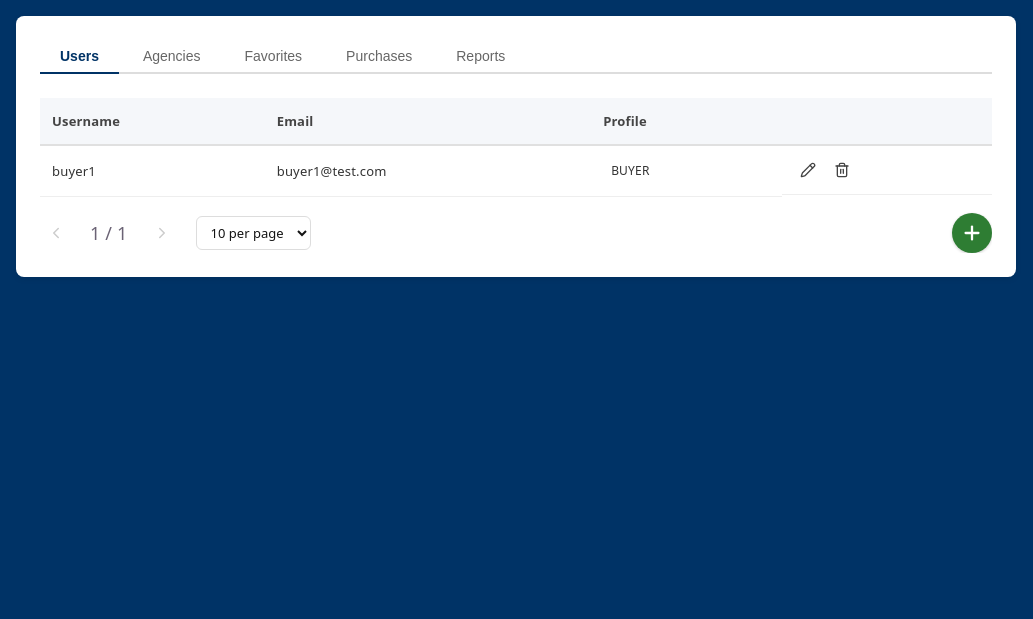
Test: AdminPage › opens the new user form and creates a user
This screenshot has width=1033, height=619.
Click the button with test id "btn-new-user" at [972, 233], box [952,213,992,253]
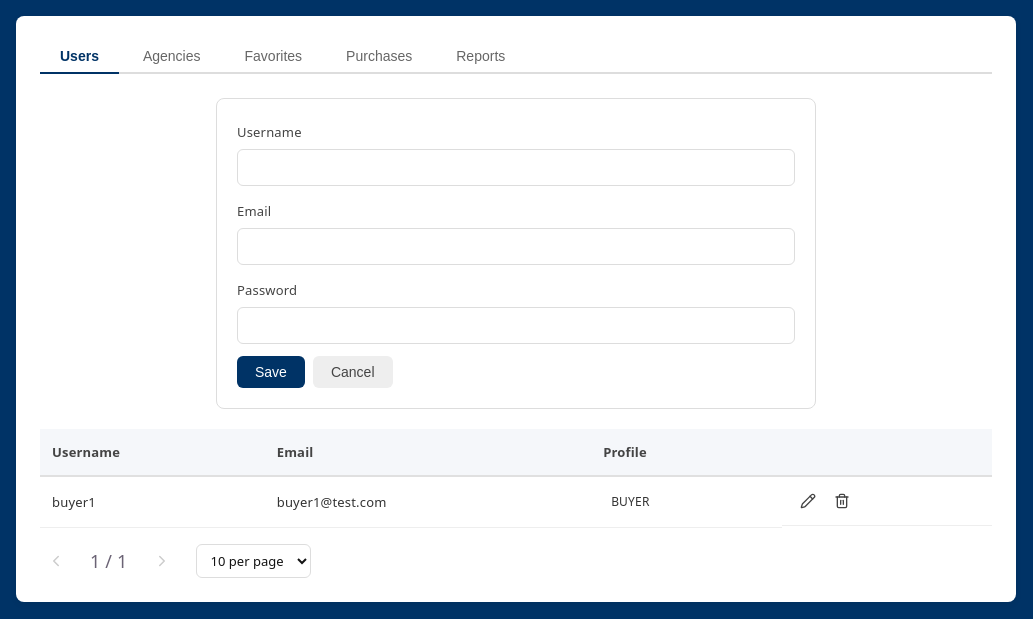
Now the form with test id "user-form" is shown, box [216,98,816,409]
Type "nuevo" into the field with test id "input-username" at [516, 168], box [237,149,795,186]
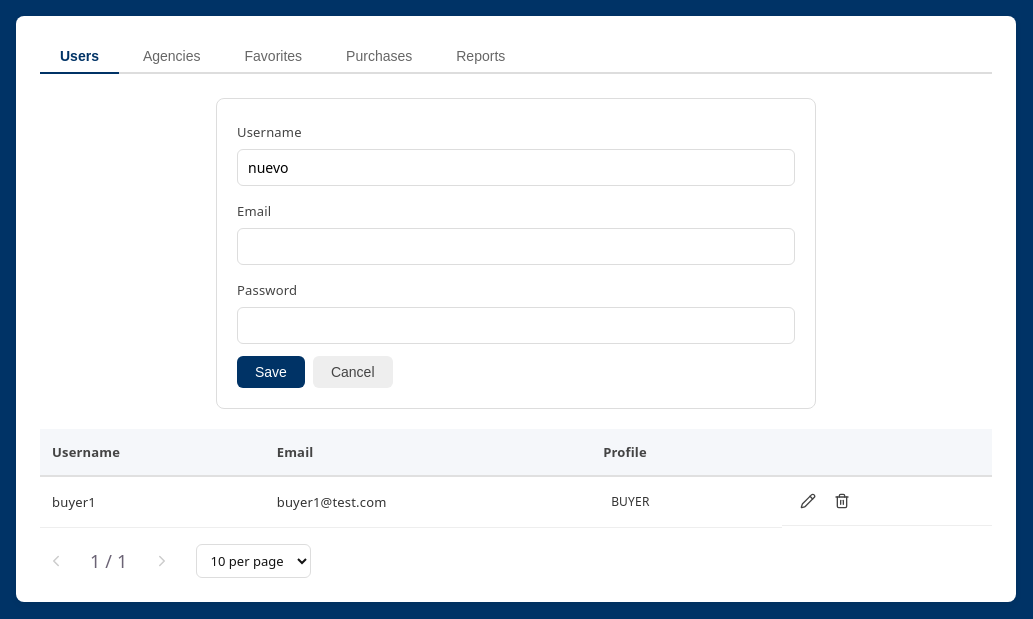
Type "nuevo@cth.com" into the field with test id "input-email" at [516, 247], box [237,228,795,265]
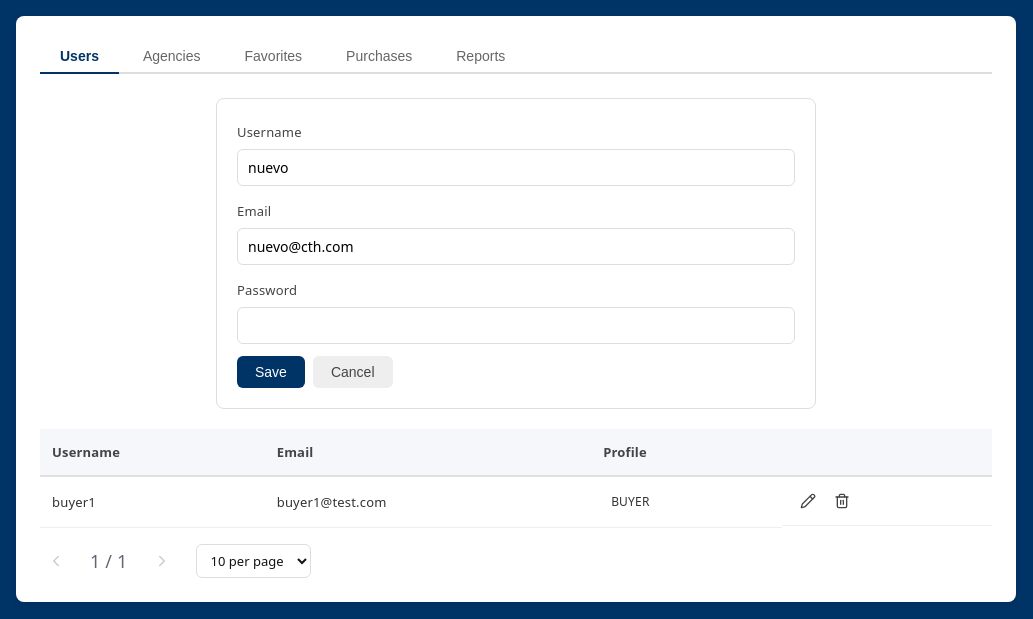
Type "secret123" into the password field with test id "input-password" at [516, 326], box [237,307,795,344]
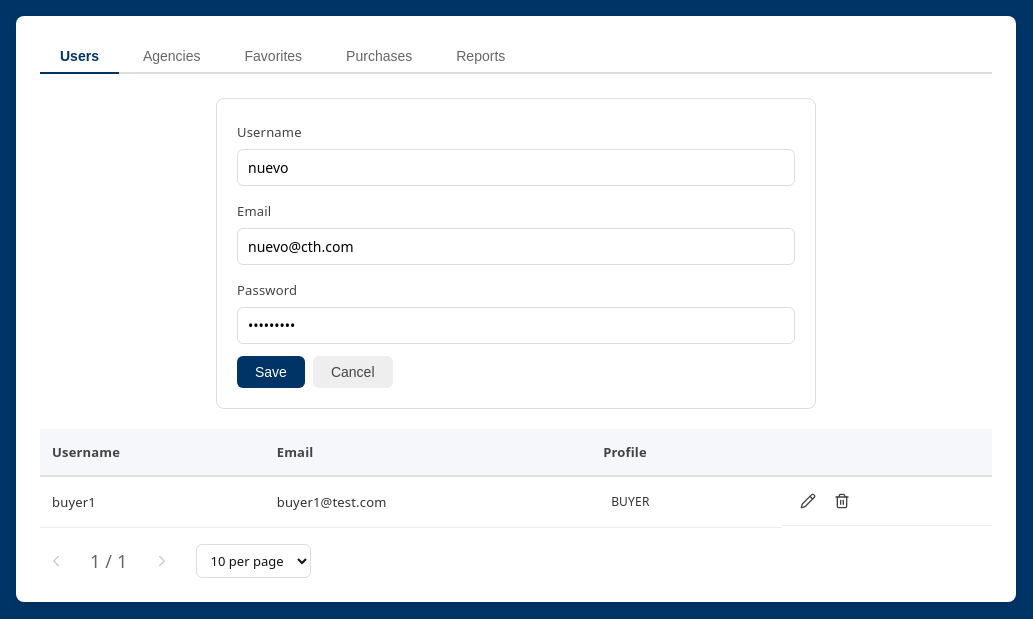
Click the button with test id "btn-submit-user" at [271, 372], box [237,356,305,388]
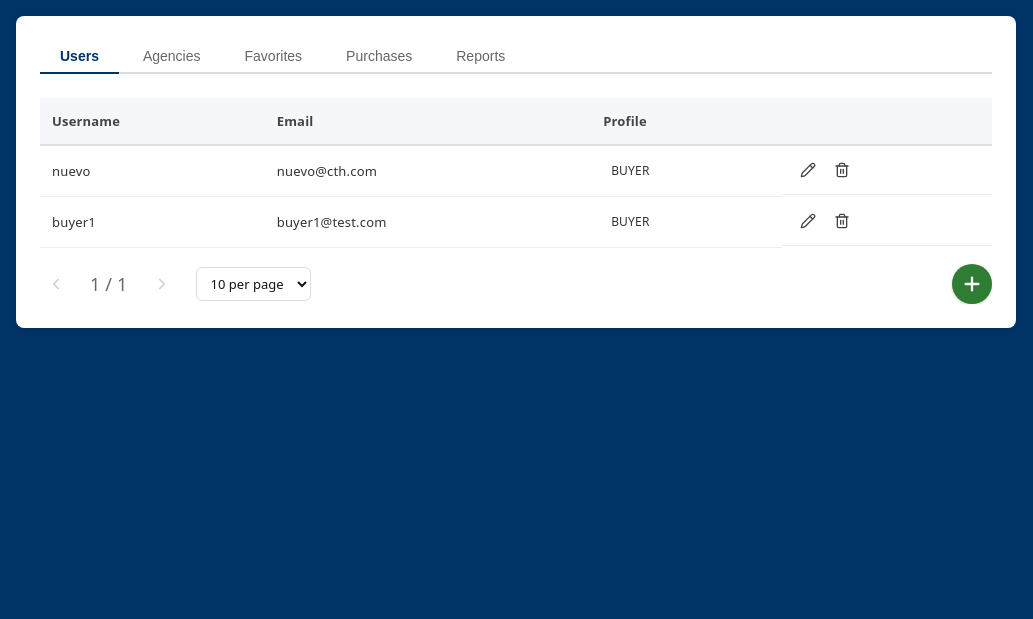
Now the text "nuevo" is shown, box [40,145,265,197]
Now the form with test id "user-form" is gone
